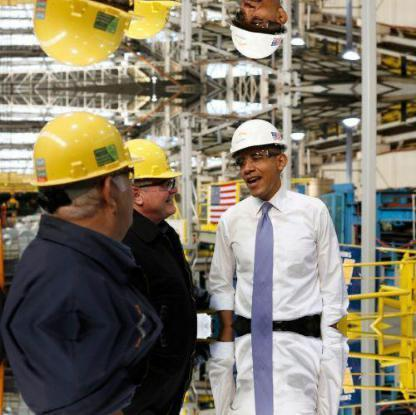helmet: (27, 109, 143, 189), (124, 137, 185, 183), (230, 117, 291, 158)
